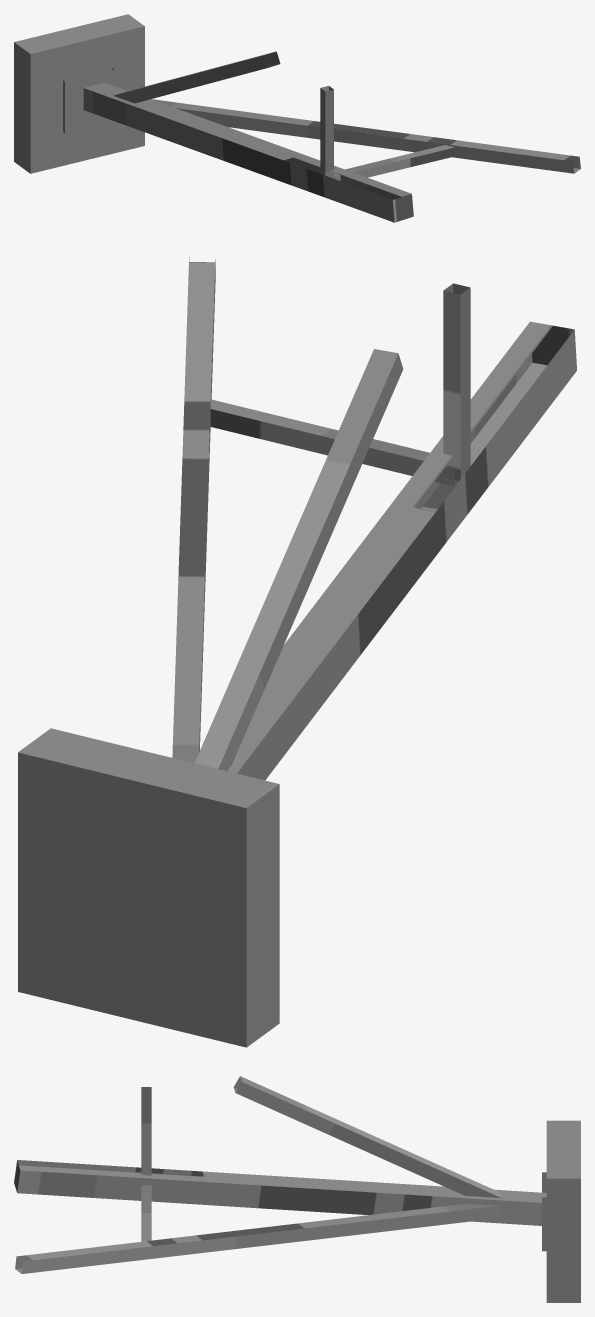
The picture shows the model from 3 angles, top to bottom: view 1: azimuth 30°, elevation 25°; view 2: azimuth 150°, elevation 25°; view 3: azimuth 270°, elevation 25°; orthographic projection. The views are drawn at different scales.
Bounding box in the file's own units: 1.56 × 1.03 × 2.48.
